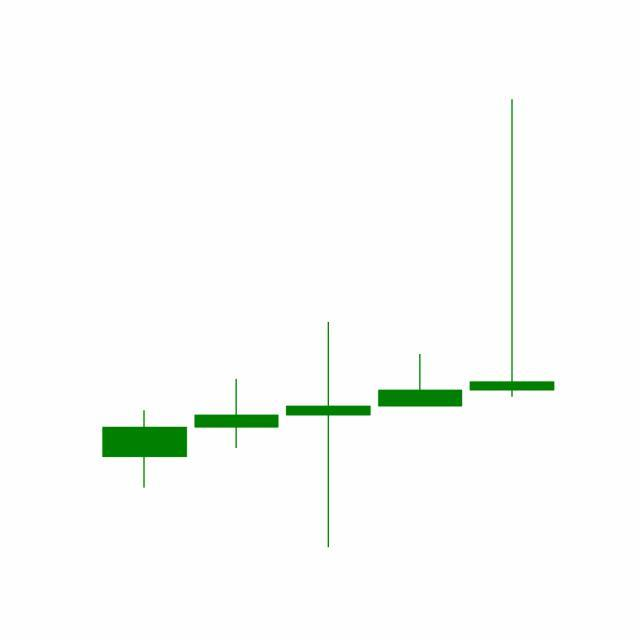Gravestone Doji: (466, 96, 559, 401)
